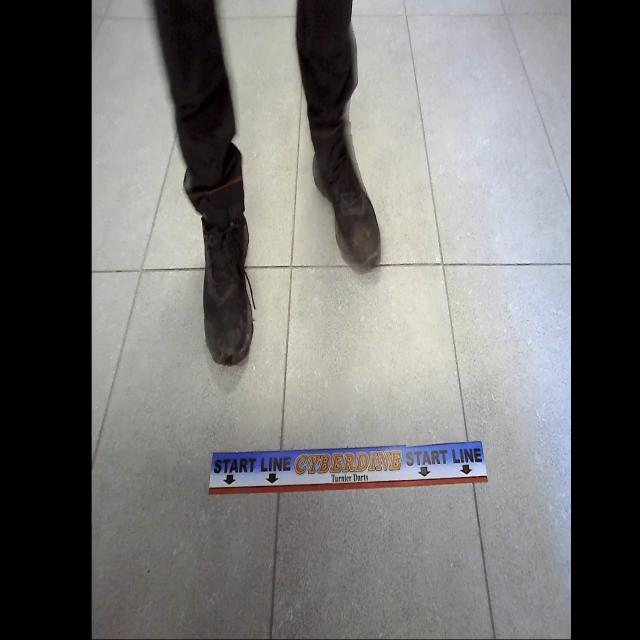foot: (312, 120, 381, 270), (200, 208, 256, 368)
